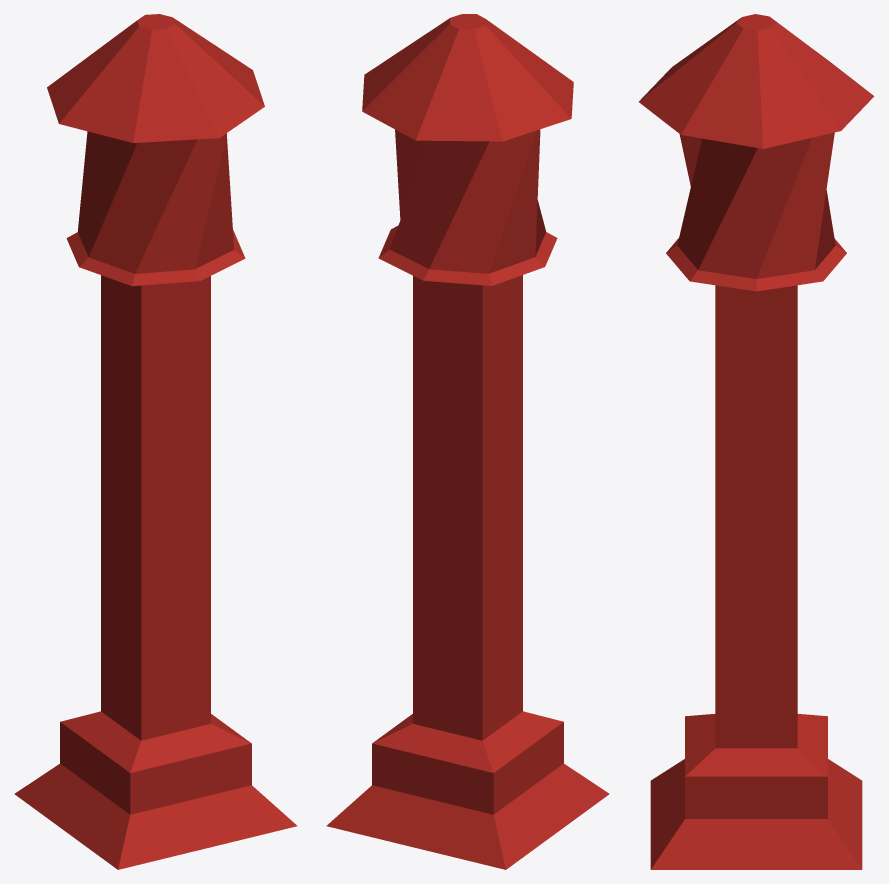
Rendered from LAMP1.obj.
3 views of the same model, side by side, from view 1: azimuth 30°, elevation 25°; view 2: azimuth 150°, elevation 25°; view 3: azimuth 270°, elevation 25° (orthographic).
Parts seen in each view (by area): view 1: pCube10; view 2: pCube10; view 3: pCube10.
Part boxes in pixels (box(x1,y1,x2,y2)): pCube10: box(14, 14, 297, 869); pCube10: box(326, 14, 609, 869); pCube10: box(639, 14, 874, 869).
Bounding box in the file's own units: 0.4976 × 1.87 × 0.4976.
